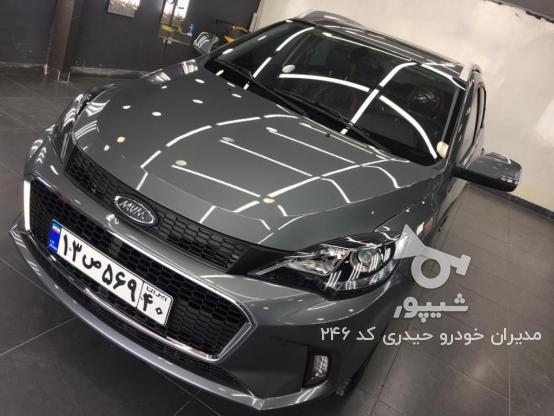car: (51, 217, 171, 330)
